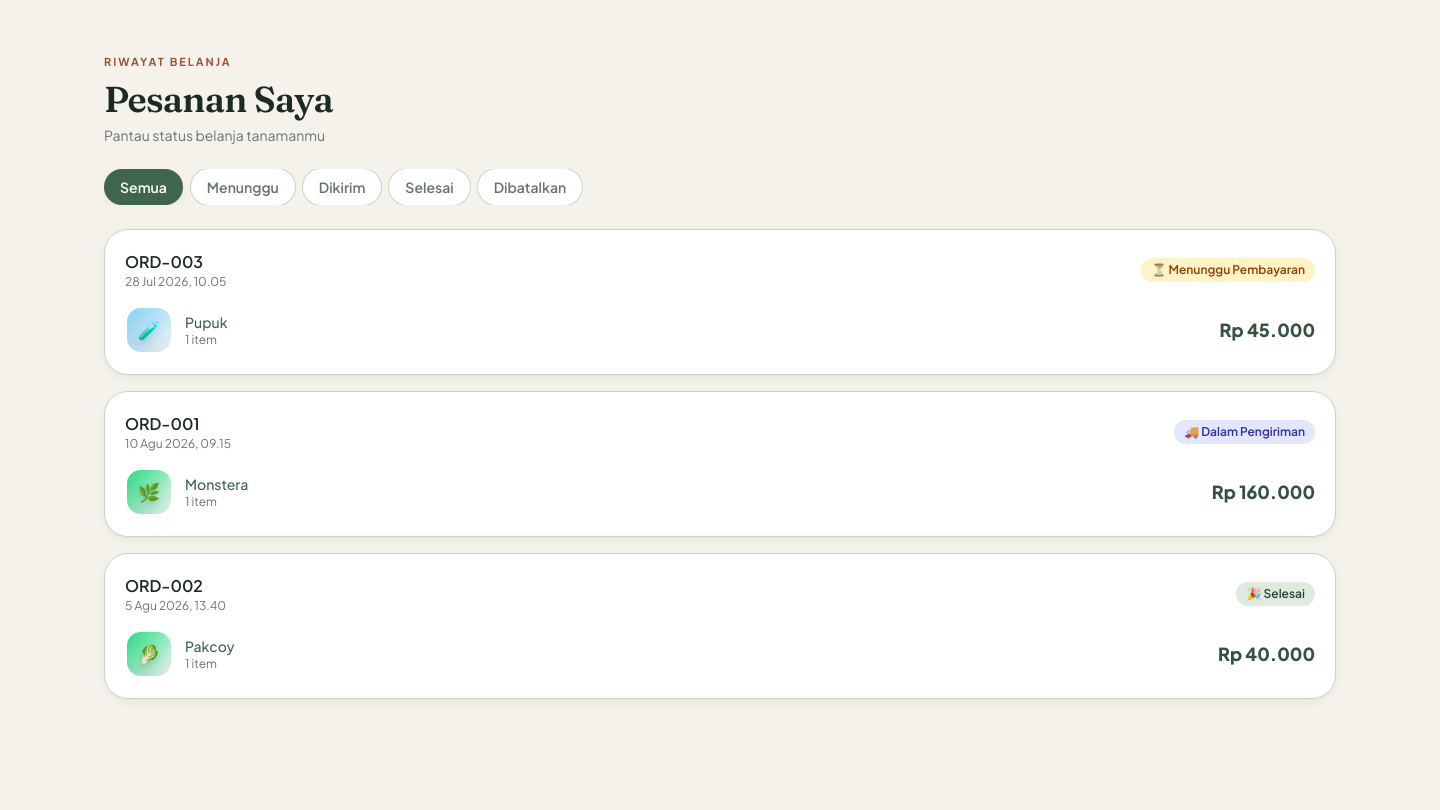
Orders Page › filters by status tab
This screenshot has width=1440, height=810.
expect the text "ORD-001" is shown: met, box [125, 412, 200, 434]
Click the button "Selesai" at (429, 186), box [389, 168, 470, 204]
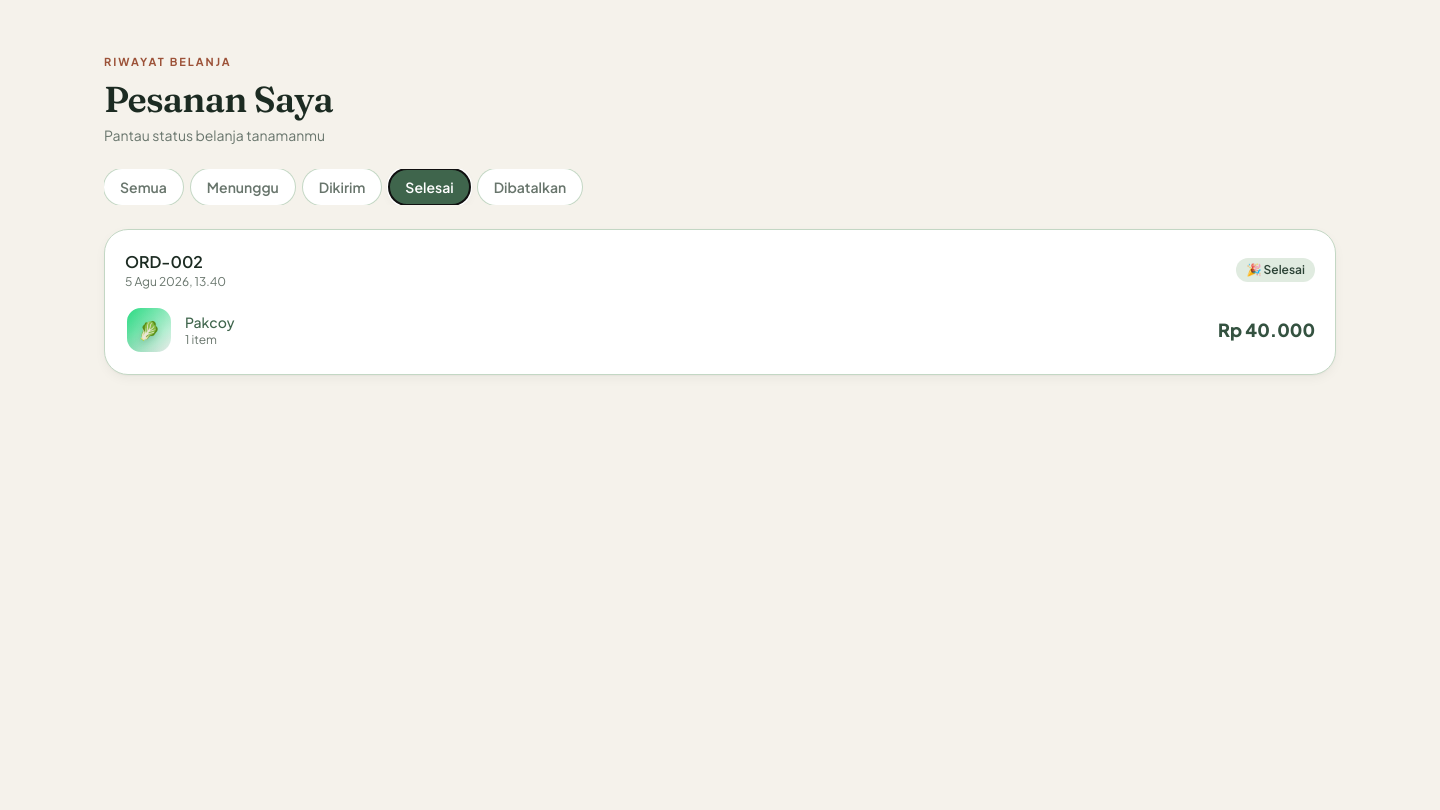
expect the text "ORD-002" is shown: met, box [125, 250, 203, 272]
expect the link "ORD-001" is gone: met
